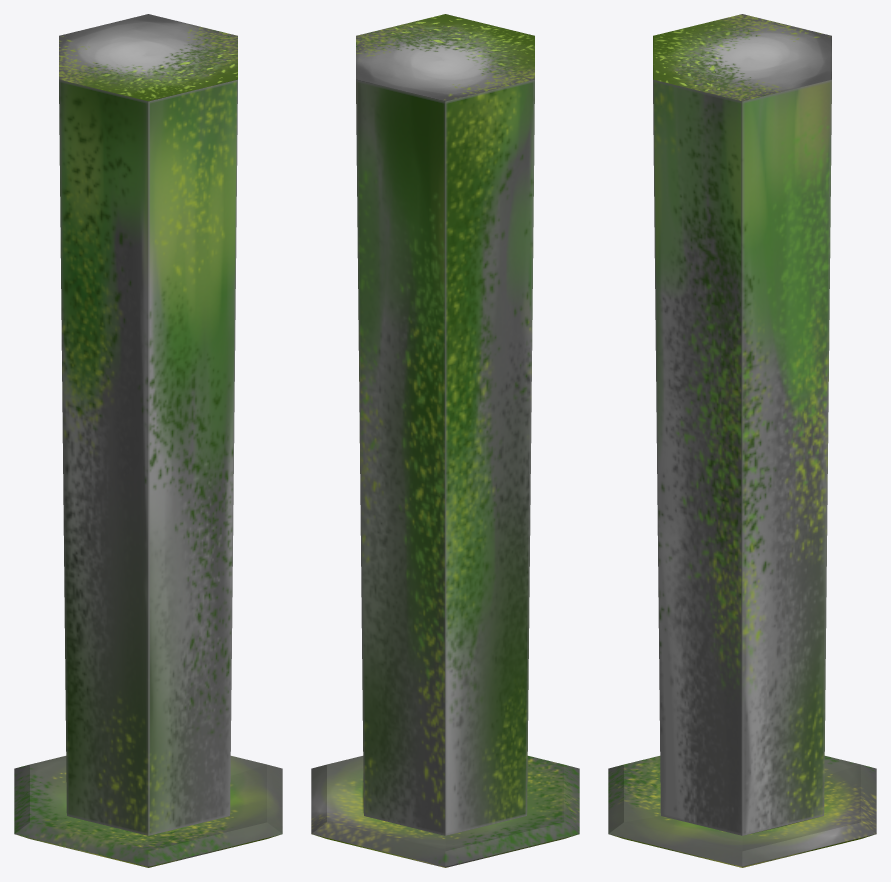
The model's file is pillarBase.fbx.
The picture shows the model from 3 angles, left to right: view 1: azimuth 30°, elevation 25°; view 2: azimuth 150°, elevation 25°; view 3: azimuth 270°, elevation 25°; orthographic projection.
Parts seen in each view (by area): view 1: pCylinder10; view 2: pCylinder10; view 3: pCylinder10.
Part boxes in pixels (x1,y1,x2,y2): pCylinder10: [14, 14, 282, 867]; pCylinder10: [311, 14, 579, 867]; pCylinder10: [608, 14, 876, 867].
Bounding box in the file's own units: 3.85 × 10.32 × 3.34.
1 material, 1 textured.
